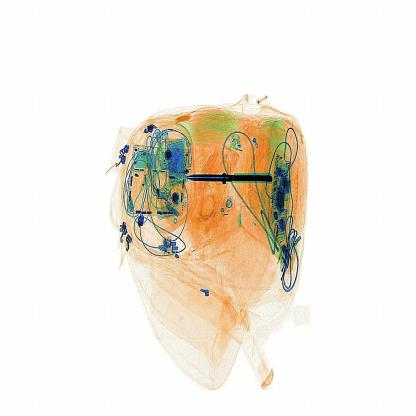gun: (175, 165, 282, 194)
